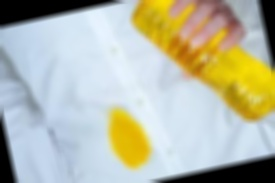mustard: (103, 99, 158, 174)
